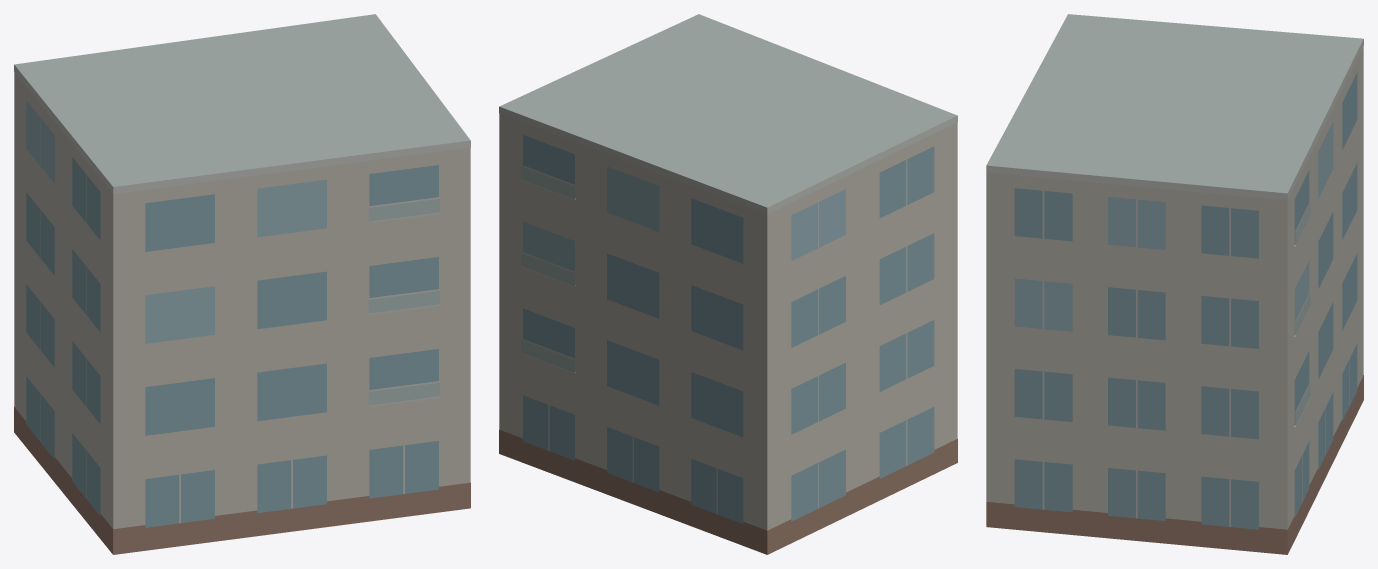
File: survey-upis-32851601.glb
3 views of the same model, side by side, from view 1: azimuth 30°, elevation 25°; view 2: azimuth 150°, elevation 25°; view 3: azimuth 270°, elevation 25° (orthographic). The views are drawn at different scales.
Parts seen in each view (by area): view 1: survey-upis-32851601.tmp; view 2: survey-upis-32851601.tmp; view 3: survey-upis-32851601.tmp.
Part boxes in pixels (x1=…): survey-upis-32851601.tmp: x1=14, y1=14, x2=470, y2=554; survey-upis-32851601.tmp: x1=499, y1=14, x2=957, y2=554; survey-upis-32851601.tmp: x1=986, y1=14, x2=1363, y2=554.
Bounding box in the file's own units: 13.52 × 12.69 × 12.02.
